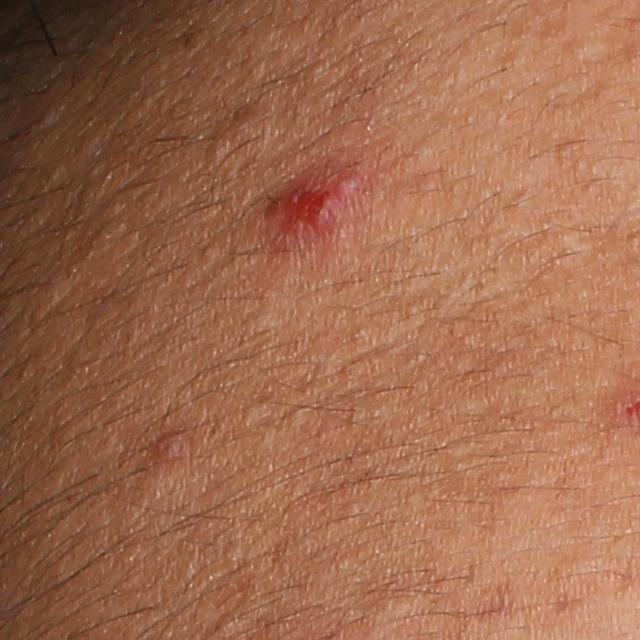comedo: (560, 35, 606, 61), (239, 398, 266, 428), (380, 596, 413, 620)
papule: (260, 174, 348, 260)
